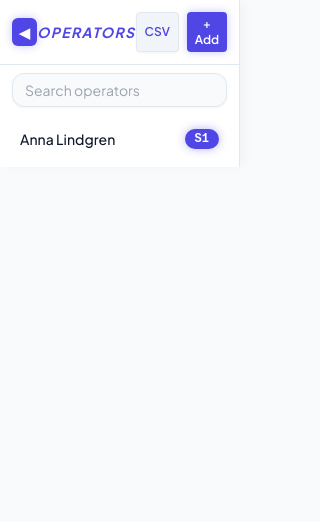
Test: OperatorPanel › expands operator details on click
Click the text "Anna Lindgren": {"x": 68, "y": 139} [20,130,115,148]
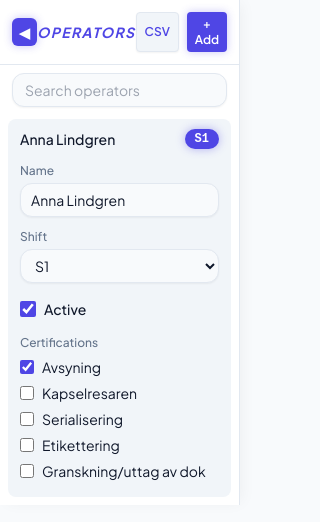
Result: the field showing "Anna Lindgren" is shown at [20,183,219,217]
Result: the checkbox labelled "Active" is shown at [20,301,36,317]
